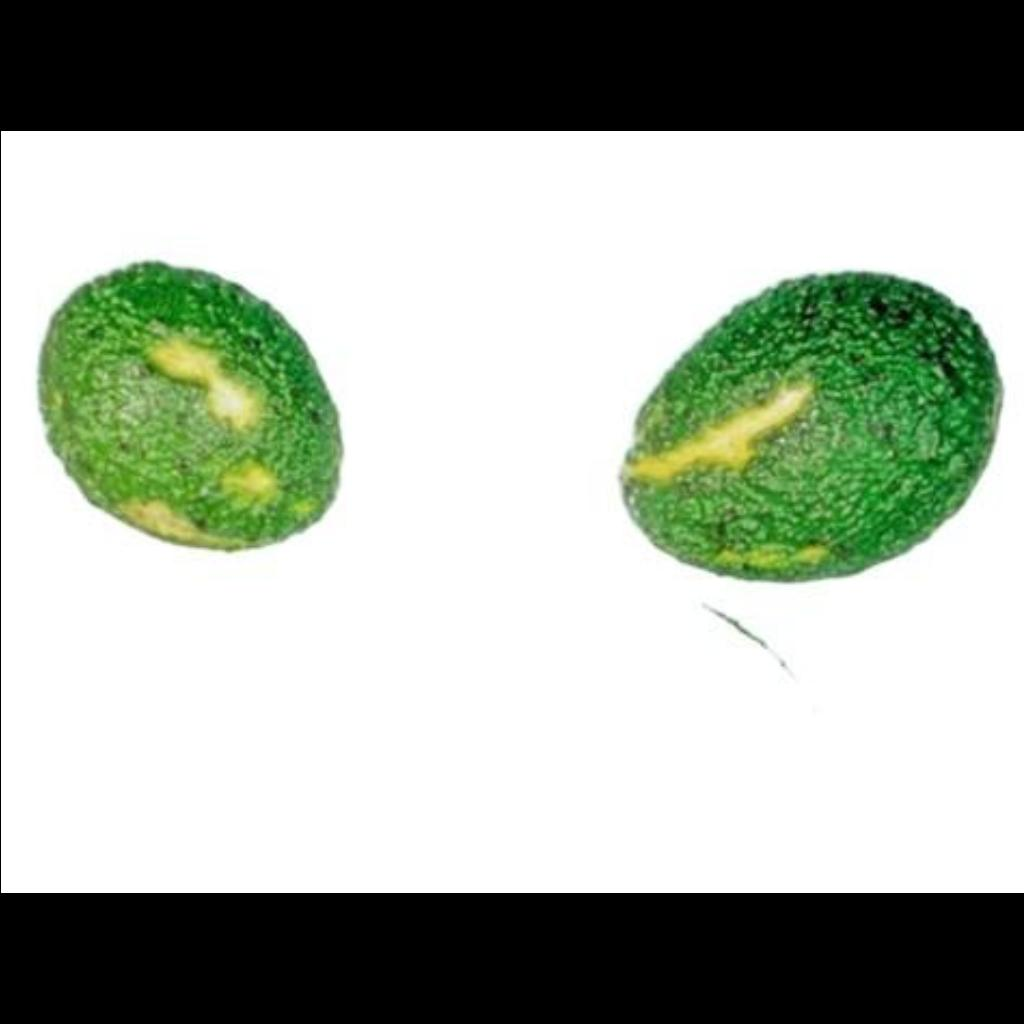sunblotch: (608, 261, 1008, 599), (17, 262, 356, 560)
